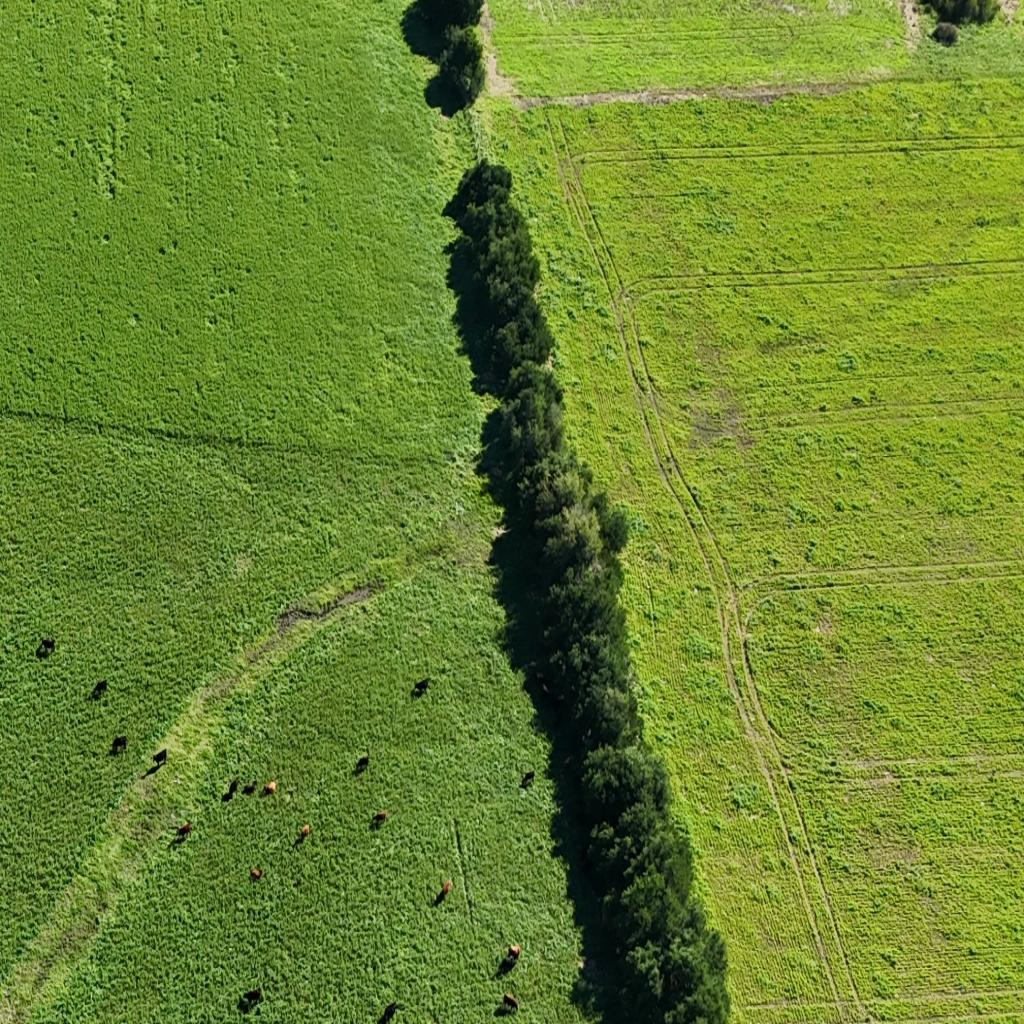cow: (378, 1002, 402, 1023), (498, 992, 519, 1015), (242, 986, 262, 1010), (503, 943, 521, 968), (172, 819, 192, 841), (435, 879, 451, 905), (111, 734, 128, 758), (411, 678, 430, 699), (36, 638, 55, 658), (151, 748, 167, 769), (92, 680, 108, 700), (354, 754, 370, 774), (521, 769, 535, 789), (242, 780, 258, 796), (226, 777, 240, 795), (297, 825, 311, 843), (263, 779, 277, 795), (375, 809, 387, 823), (250, 867, 262, 880)
